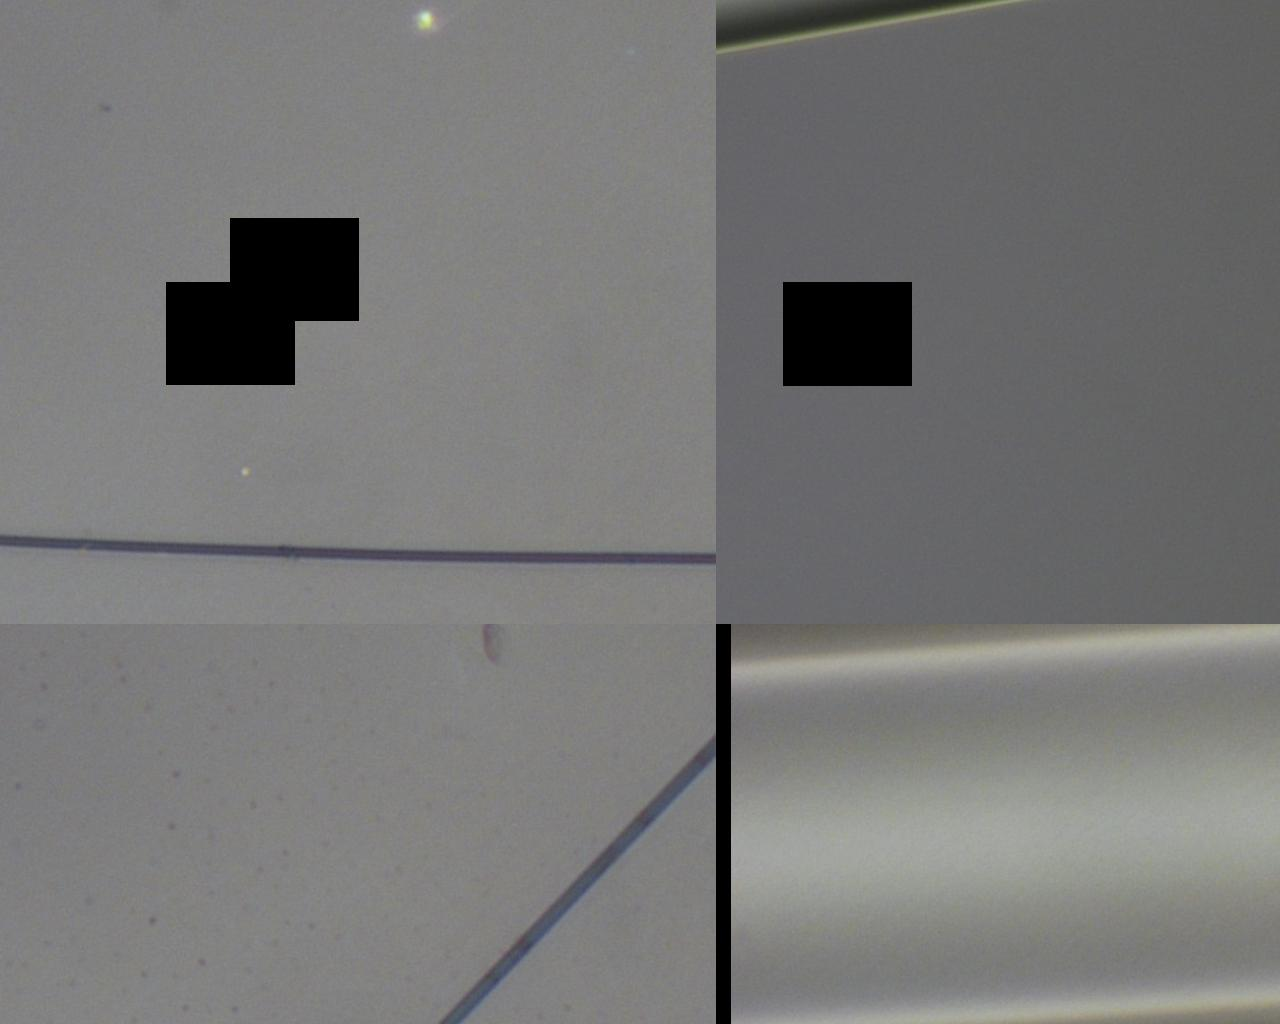fiber: (731, 624, 1280, 1024), (435, 725, 716, 1024), (0, 530, 716, 566)
